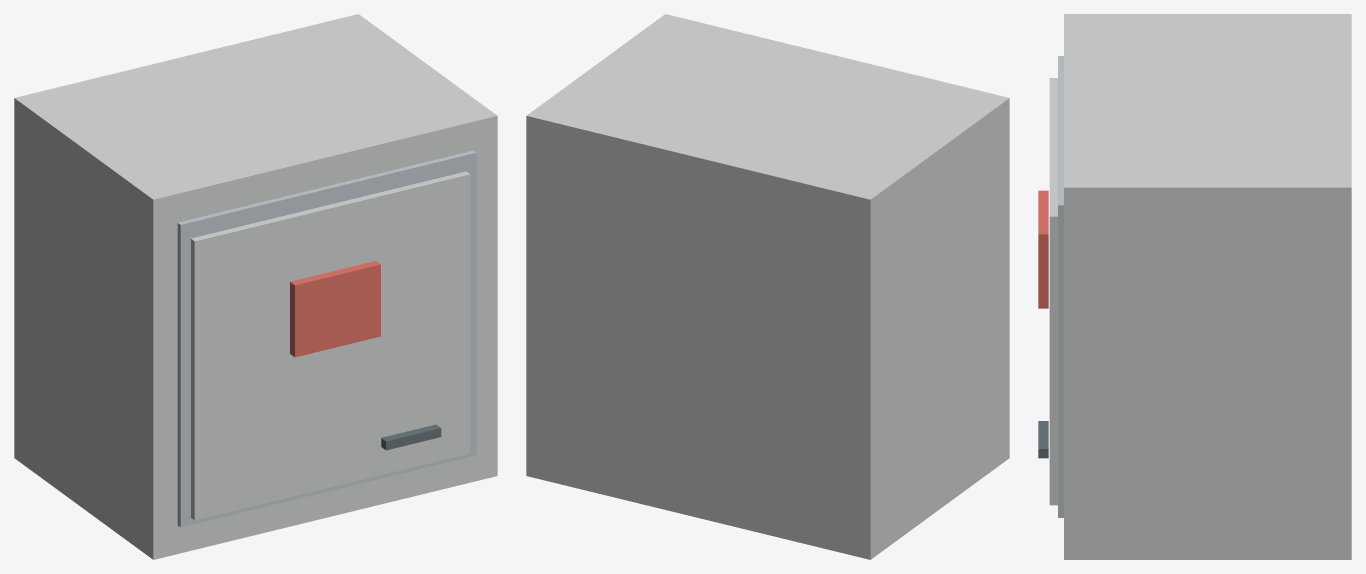
The model's file is chemical_cabinet.glb.
The picture shows the model from 3 angles, left to right: view 1: azimuth 30°, elevation 25°; view 2: azimuth 150°, elevation 25°; view 3: azimuth 270°, elevation 25°; orthographic projection. The views are drawn at different scales.
Size of the model in its own units: 1 by 1 by 0.7625.
